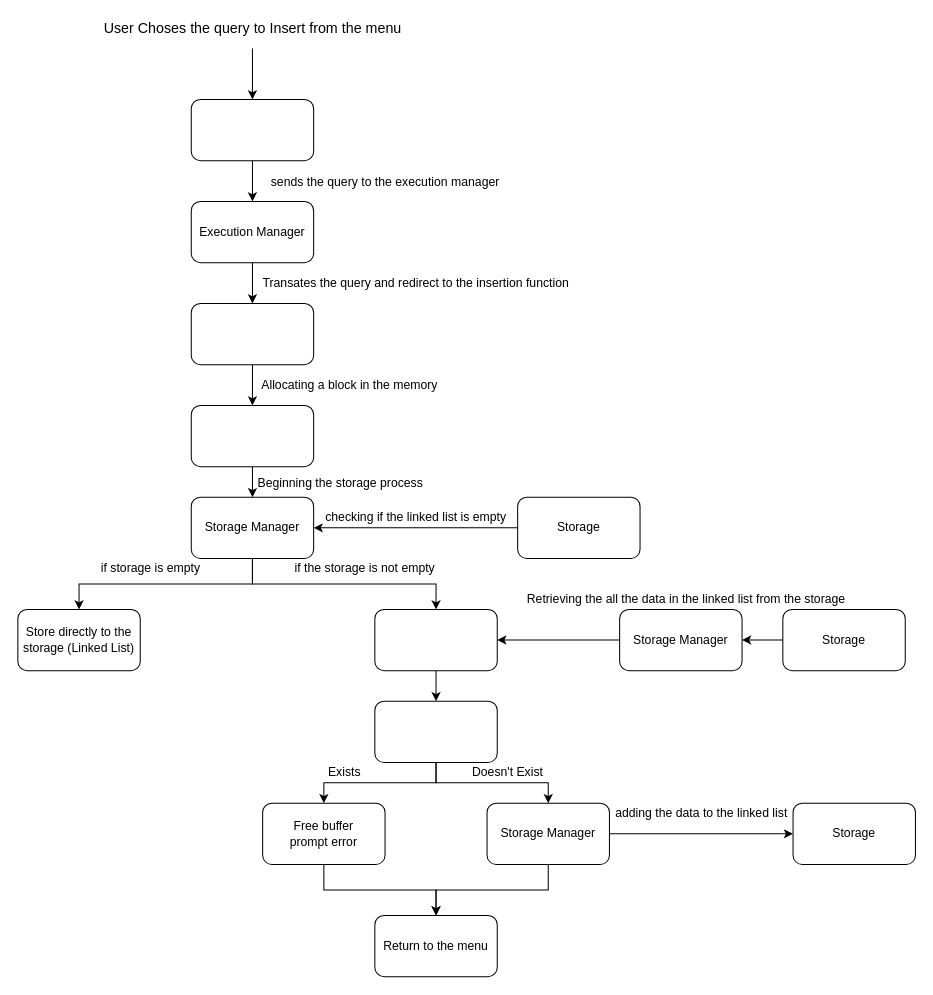
The diagram is 933 pixels wide and 995 high, and some of its shapes have lost their labels. The shapes that lost their labels are listed below. From the top down, each one's centre as x and y in pixels, then its label:
At point 252,129: "Query Compiler".
At point 252,333: "Buffer Manager".
At point 252,435: "Taking User Input and storing them in Buffer".
At point 435,639: "Index Manager".
At point 435,731: "Checking if the ID from the buffer exists in the linked list".
